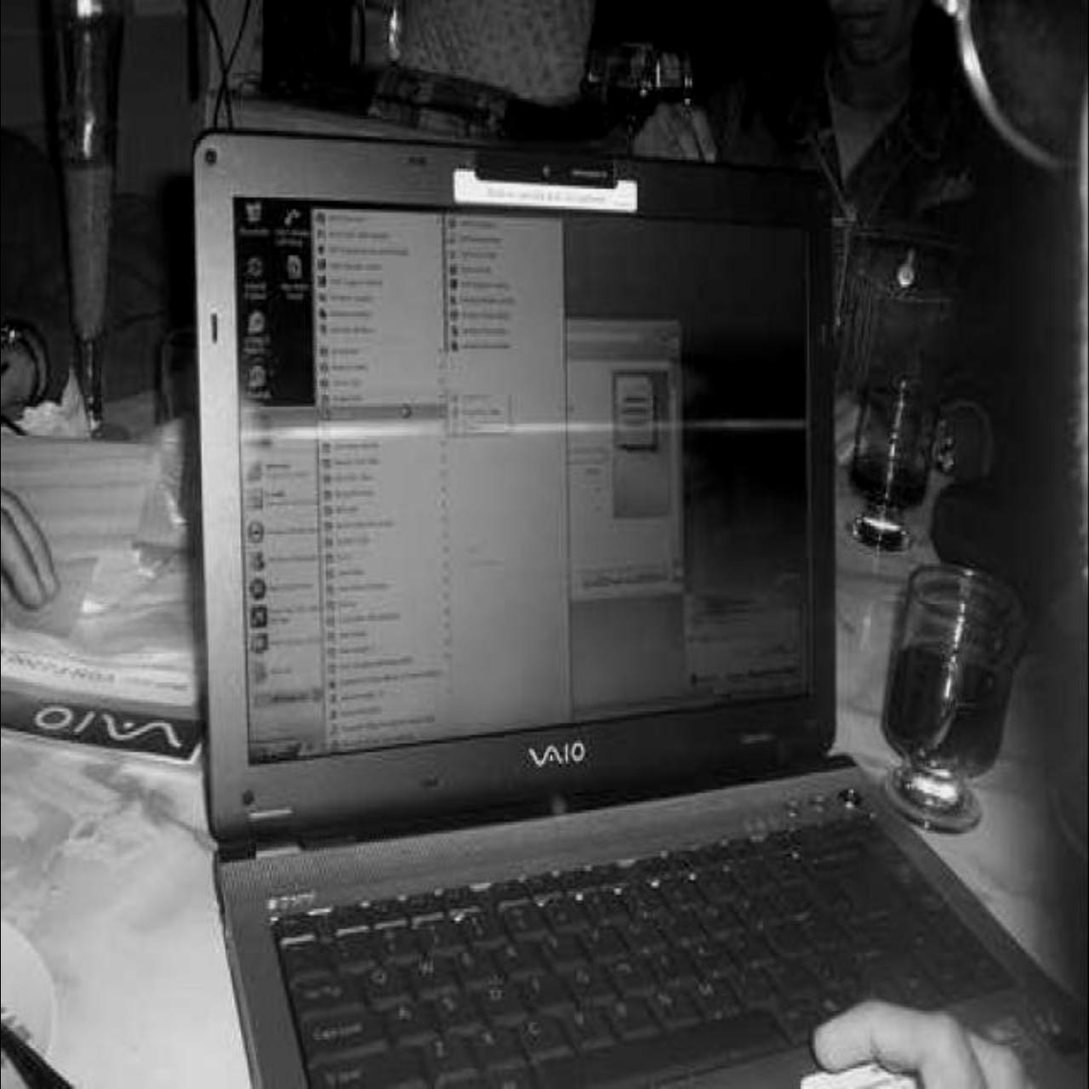laptop: (182, 153, 1016, 1089)
